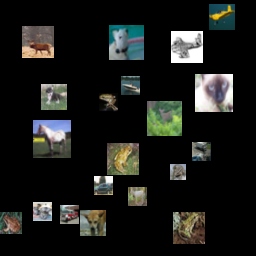airplane: (190, 39, 228, 77), (19, 182, 51, 214)
bird: (52, 60, 84, 92), (208, 110, 237, 139), (169, 133, 188, 152)
cat: (5, 138, 37, 170), (11, 75, 40, 104)
deer: (146, 20, 184, 58), (169, 179, 198, 208), (81, 166, 110, 195), (38, 215, 57, 234)
dog: (91, 103, 117, 129), (74, 9, 100, 35), (123, 19, 142, 38)
frog: (209, 186, 241, 218)
ship: (120, 103, 155, 138), (55, 177, 74, 196)
